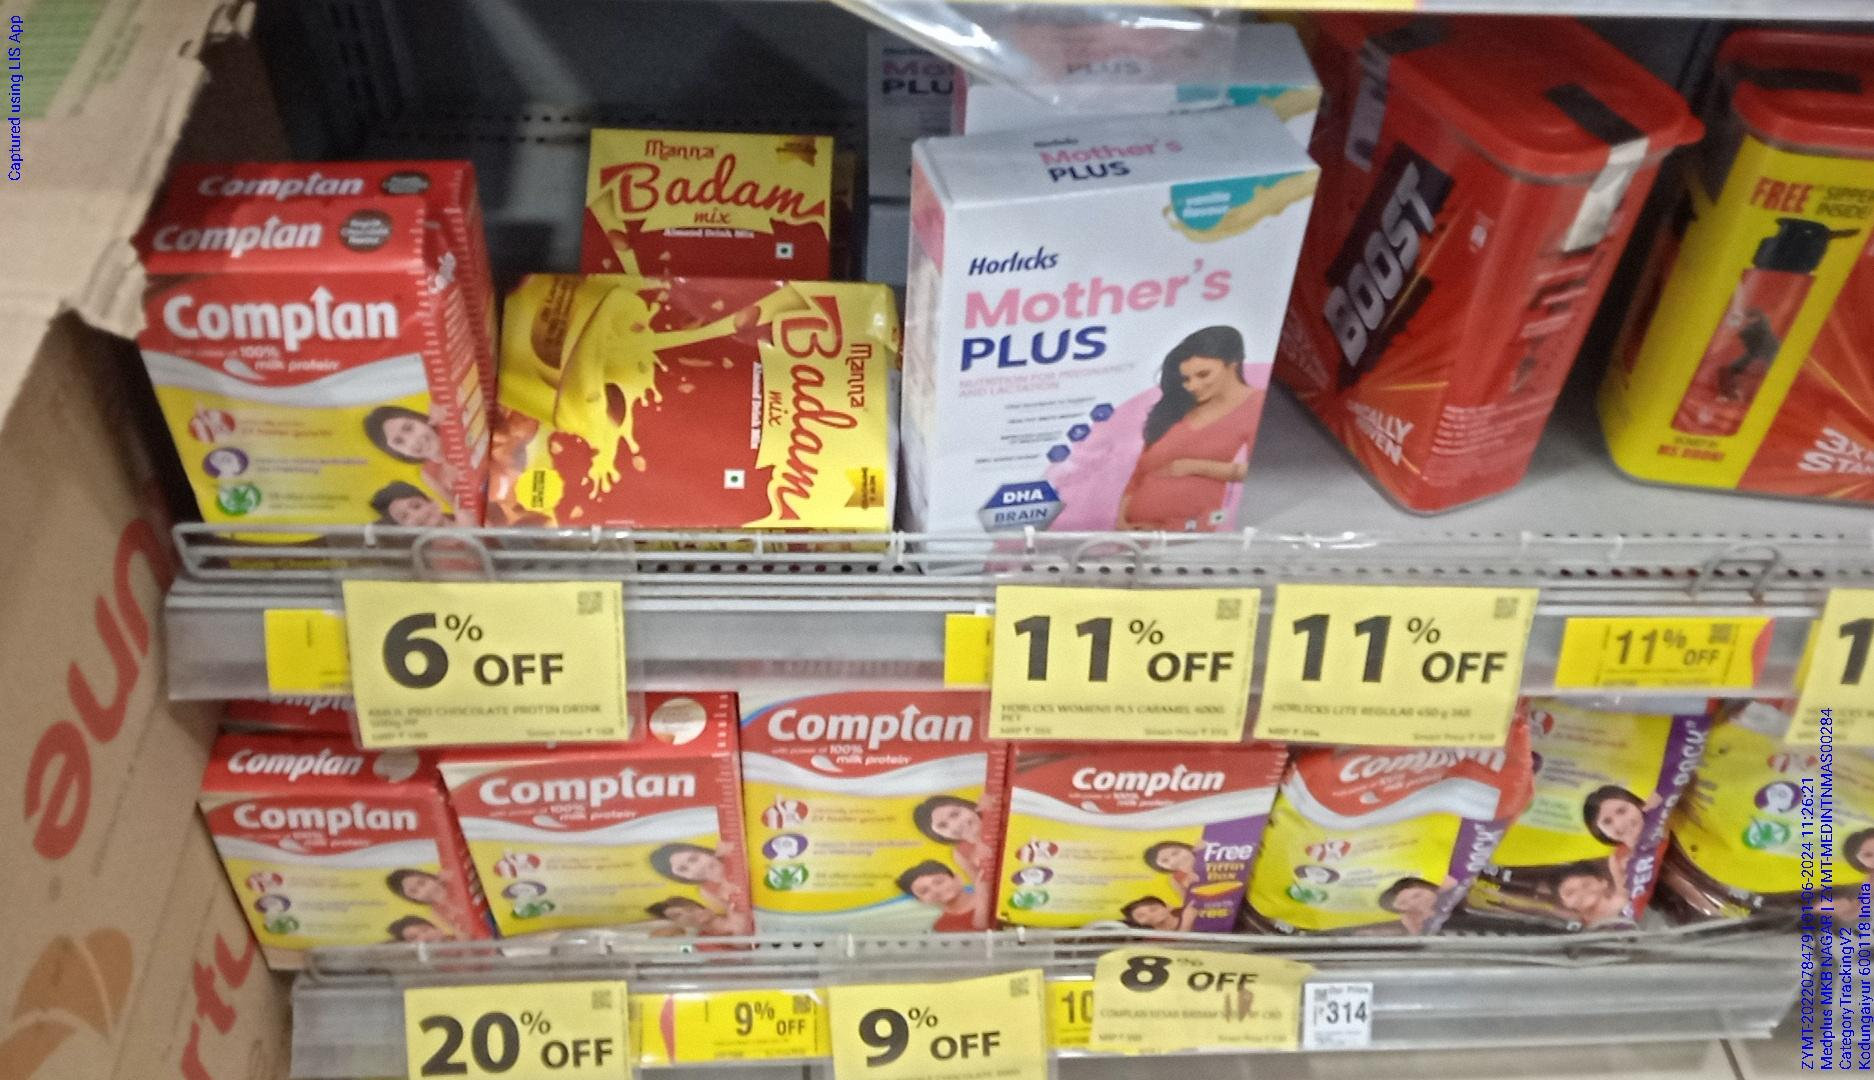COMPLAN_CHOCOLATE_200_GMS_PACK: (1017, 745, 1263, 940)
COMPLAN_CHOCOLATE_500_GMS_PACK: (149, 266, 480, 573)
COMPLAN_CREAMY_CLASSIC_500_G_PACK: (745, 680, 1004, 945)
COMPLAN_KESAR_BADAM_500_GMS_PACK: (472, 761, 734, 986), (210, 781, 458, 981)
COMPLAN_RC_POUCH_700_GMS_12: (1519, 696, 1705, 935), (1276, 734, 1502, 927)
